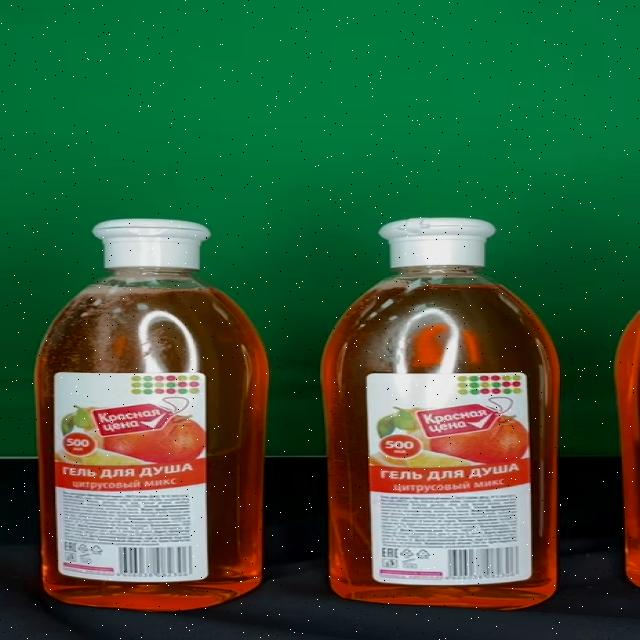Bottle: (321, 218, 562, 610), (33, 218, 270, 612)
Cap: (90, 218, 210, 270), (379, 218, 497, 267)
